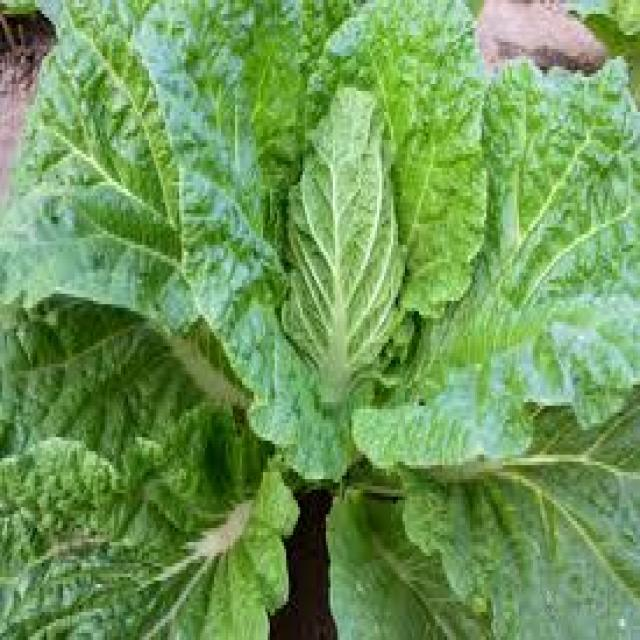organic waste: (0, 0, 638, 637), (274, 80, 402, 399)
